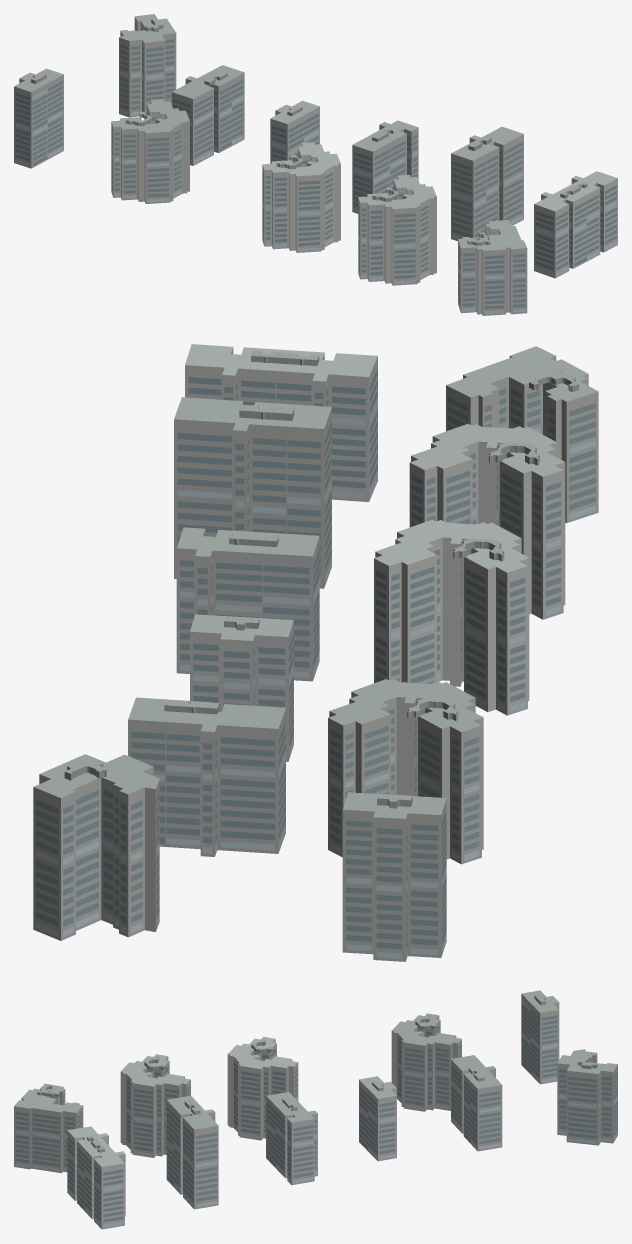
The model's file is apt-a13410010.glb.
3 renders of one model, top to bottom at view 1: azimuth 30°, elevation 25°; view 2: azimuth 150°, elevation 25°; view 3: azimuth 270°, elevation 25°, orthographic. The views are drawn at different scales.
Visible parts, largest first — view 1: apt-a13410010; view 2: apt-a13410010; view 3: apt-a13410010.
Part boxes in pixels (left/top/right/bottom): apt-a13410010: left=14, top=14, right=617, bottom=315; apt-a13410010: left=33, top=344, right=598, bottom=961; apt-a13410010: left=14, top=990, right=617, bottom=1229.
Bounding box in the file's own units: 193 × 44.62 × 293.
